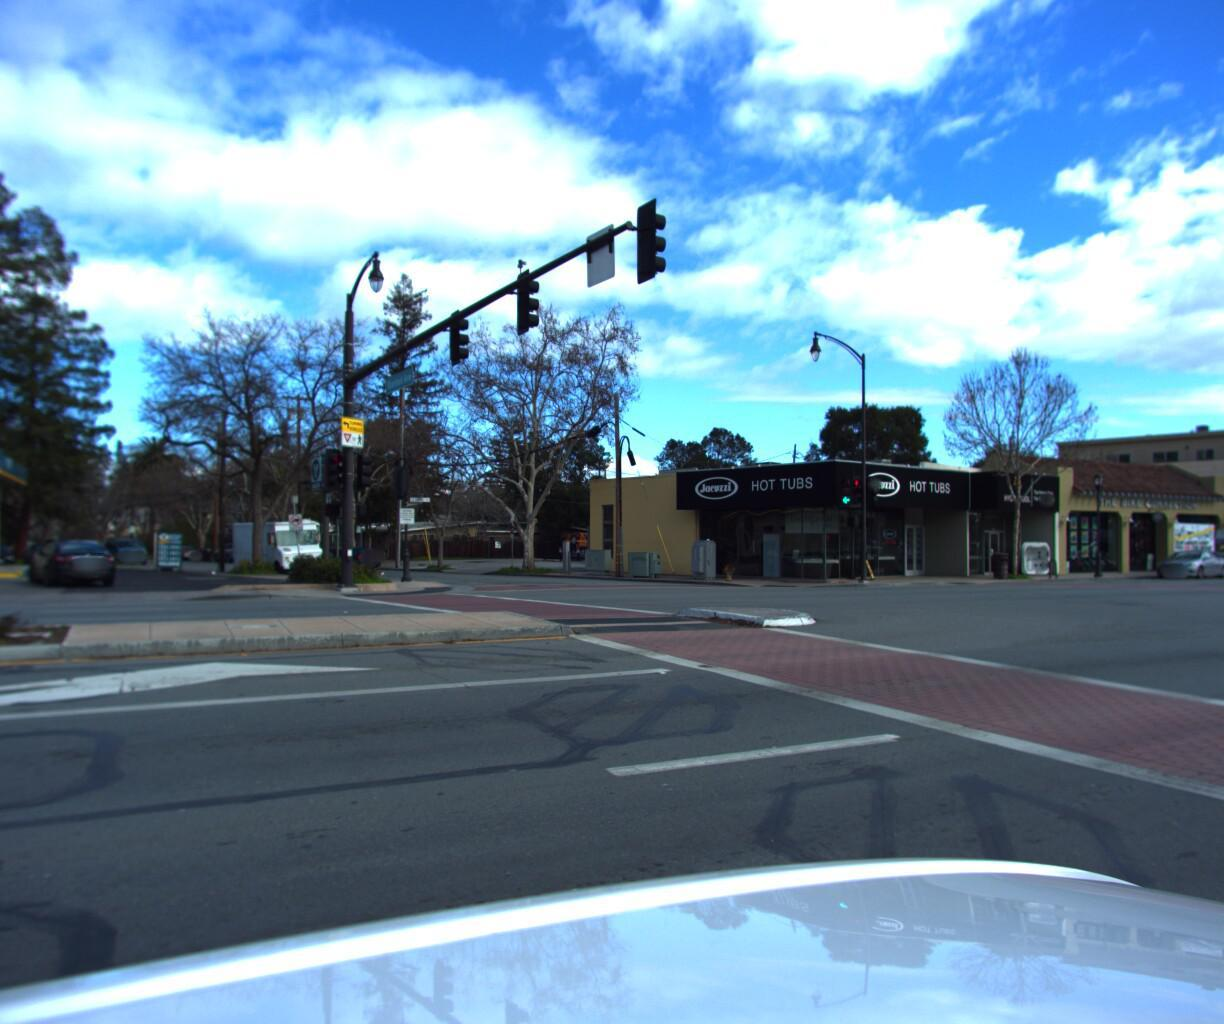car: (20, 532, 124, 590), (1145, 544, 1224, 577), (319, 540, 386, 570), (1190, 534, 1224, 574), (109, 536, 155, 560), (0, 538, 23, 570), (170, 538, 206, 558)
truck: (228, 518, 331, 574)
